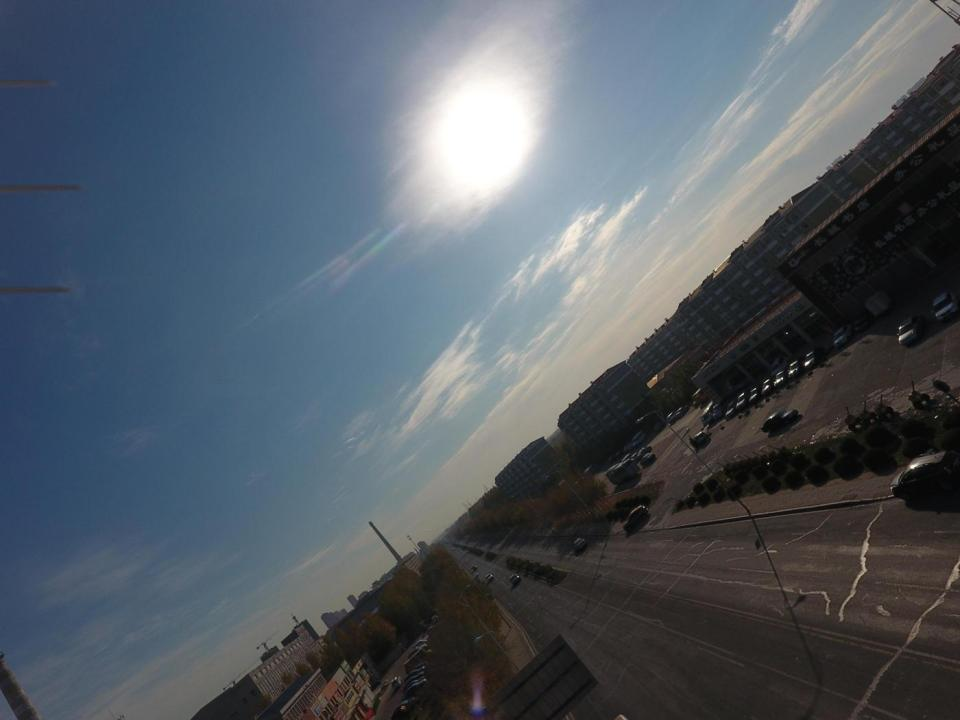bus: (606, 459, 640, 485), (402, 649, 433, 676), (692, 382, 716, 405)
car: (892, 450, 960, 500), (898, 314, 926, 346), (761, 409, 798, 433), (623, 504, 649, 534), (932, 292, 958, 322), (400, 679, 428, 702), (390, 698, 420, 719), (401, 672, 425, 693), (402, 676, 425, 697), (804, 346, 825, 368), (771, 355, 790, 379), (854, 309, 873, 333), (835, 324, 853, 348), (404, 666, 425, 684), (736, 389, 752, 411), (788, 357, 804, 379), (409, 661, 428, 678), (407, 644, 430, 658), (726, 398, 742, 417), (749, 384, 763, 403), (761, 378, 776, 395), (774, 371, 789, 388), (583, 463, 601, 476), (366, 680, 381, 695), (639, 453, 656, 466), (424, 623, 442, 635), (572, 537, 586, 552), (666, 410, 681, 424), (411, 639, 428, 651), (637, 446, 651, 459), (508, 573, 521, 586), (676, 404, 689, 417), (654, 420, 667, 432), (621, 453, 634, 464), (693, 396, 704, 406), (608, 453, 618, 463), (631, 452, 641, 461), (486, 572, 494, 582), (624, 443, 632, 453), (627, 442, 637, 450), (615, 449, 623, 458), (471, 564, 477, 572), (431, 616, 439, 622)
truck: (865, 290, 894, 319), (691, 432, 709, 446), (390, 676, 401, 691), (419, 620, 429, 633)
van: (712, 395, 730, 420), (700, 402, 718, 426), (632, 431, 647, 448)
